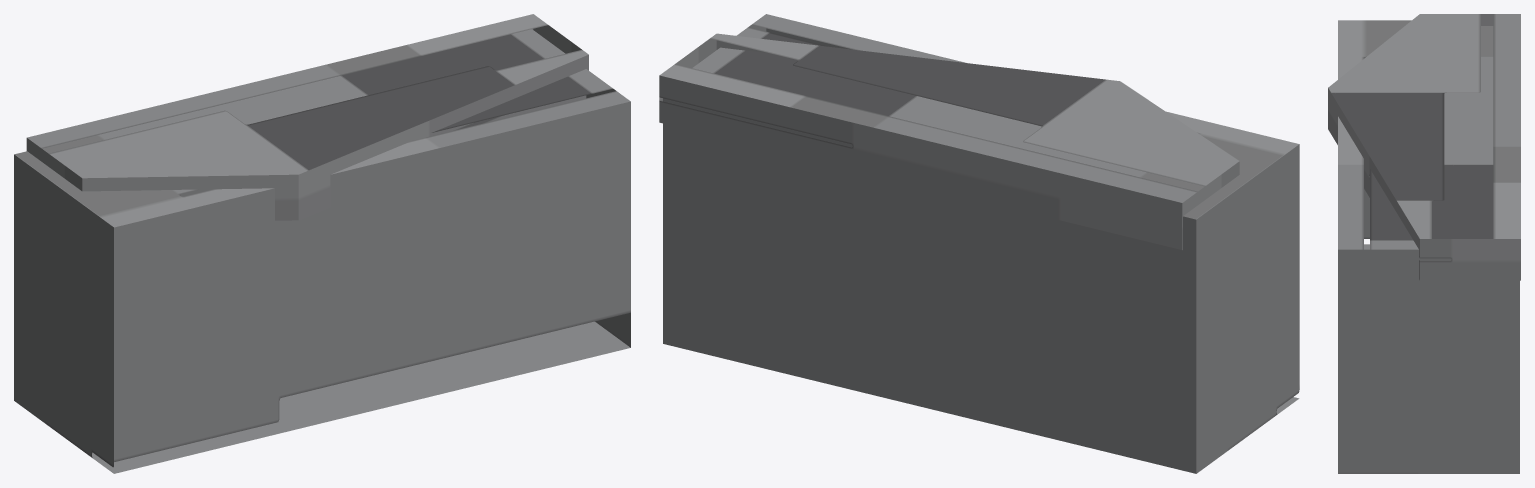
The picture shows the model from 3 angles, left to right: view 1: azimuth 30°, elevation 25°; view 2: azimuth 150°, elevation 25°; view 3: azimuth 270°, elevation 25°; orthographic projection. The views are drawn at different scales.
Bounding box in the file's own units: 0.3867 × 0.1846 × 0.1365.
